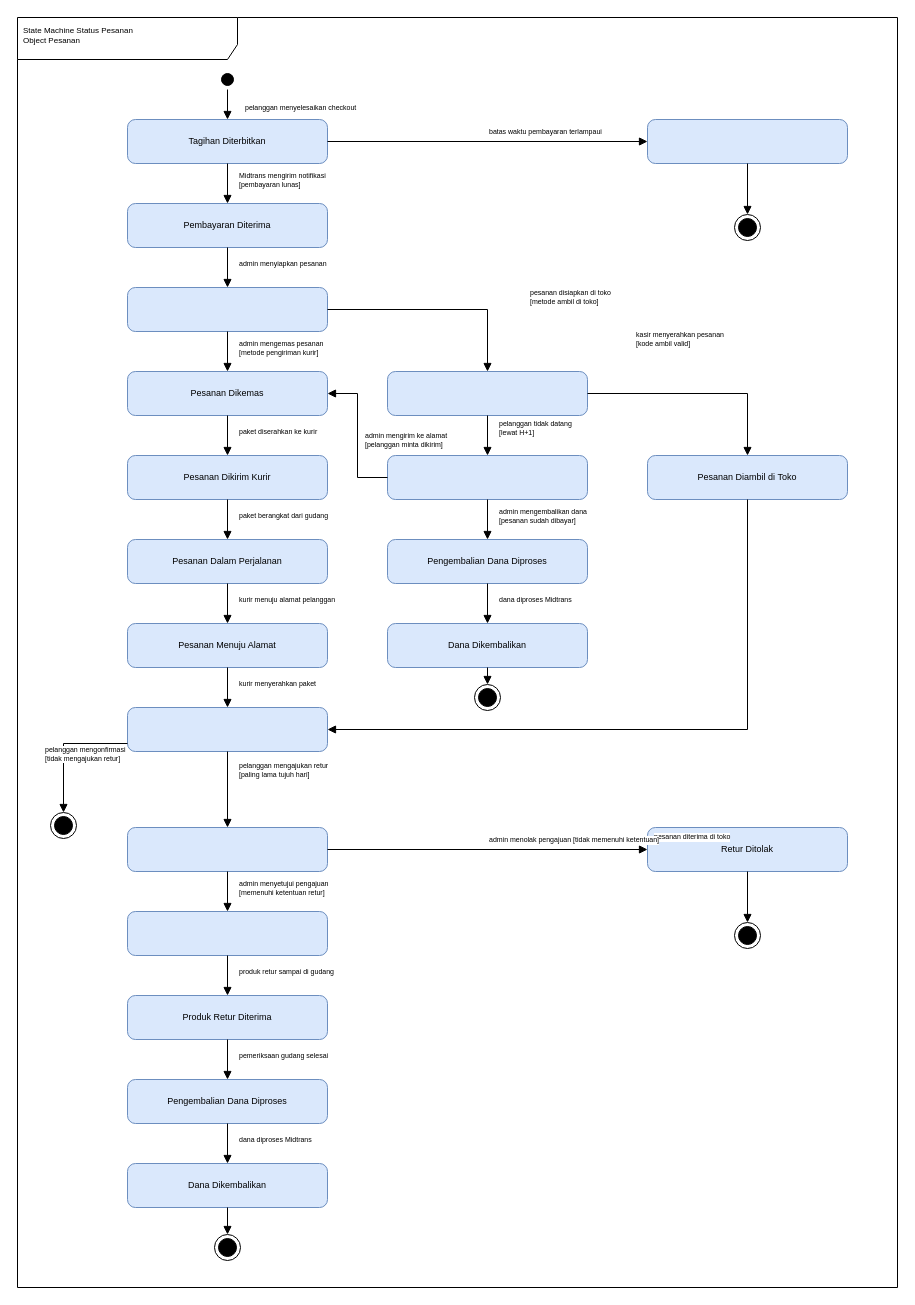
Some shapes in this 915 by 1305 pixel diagram are drawn without their labels. The centre of each missing label's shape, as x and y in pixels:
Pesanan Dibatalkan: (747,141)
Pesanan Diproses: (227,309)
Pesanan Diterima Pelanggan: (227,729)
Pesanan Tidak Diambil: (487,477)
Retur Disetujui: (227,933)
Retur Menunggu Validasi: (227,849)
Siap Diambil di Toko: (487,393)
